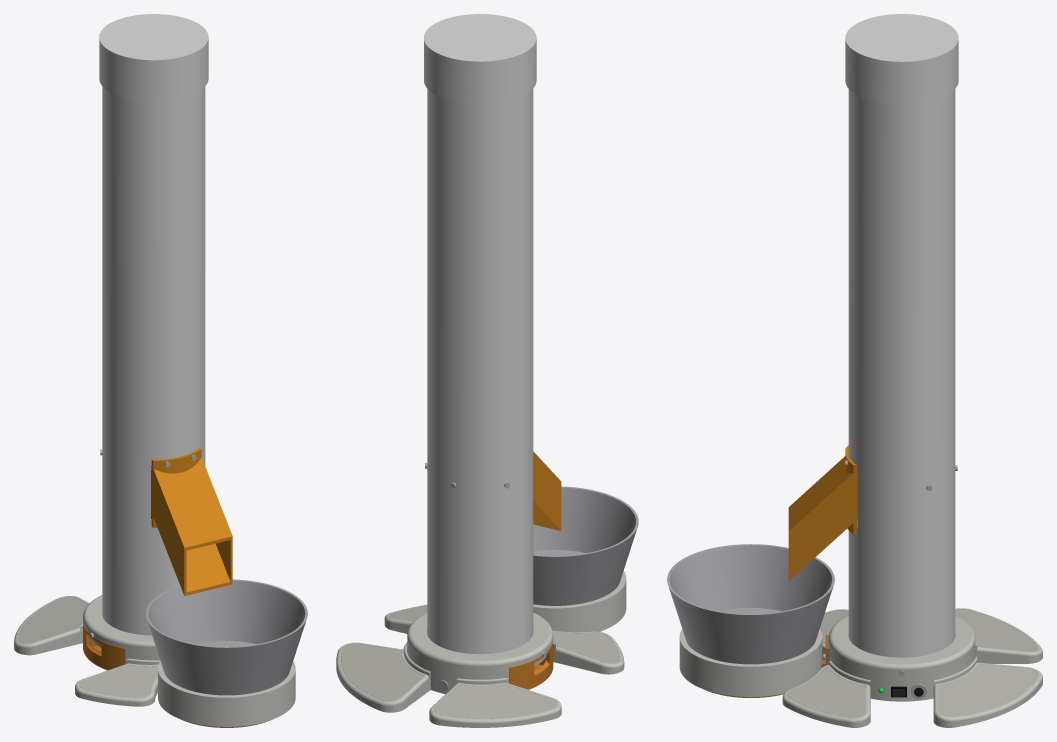
The model's file is montagem.min.glb.
3 renders of one model, left to right at view 1: azimuth 30°, elevation 25°; view 2: azimuth 150°, elevation 25°; view 3: azimuth 270°, elevation 25°, orthographic. The views are drawn at different scales.
Visible parts, largest first — view 1: Tubo_PVC_DN100, Vasilha_inox, Cap_superior, P04_bica, P08_plataforma, P06_pedestal, P13_tampa_TE, P13_tampa_FE, P12_pata_FE, P12_pata_TE, P11_gaveta_pilhas; view 2: Tubo_PVC_DN100, Vasilha_inox, Cap_superior, P06_pedestal, P13_tampa_TD, P13_tampa_TE, P08_plataforma, P12_pata_TE, P12_pata_TD, P04_bica, P13_tampa_FE, P12_pata_FE (+1 smaller); view 3: Tubo_PVC_DN100, Vasilha_inox, Cap_superior, P06_pedestal, P04_bica, P08_plataforma, P13_tampa_TD, P13_tampa_FD, P12_pata_TD, P13_tampa_TE, P12_pata_FD, P12_pata_TE.
Boxes of the visible parts, left/top/right/bottom form: Tubo_PVC_DN100: left=102, top=86, right=205, bottom=635; Vasilha_inox: left=146, top=579, right=307, bottom=695; Cap_superior: left=99, top=14, right=208, bottom=101; P04_bica: left=151, top=448, right=232, bottom=596; P08_plataforma: left=158, top=661, right=295, bottom=726; P06_pedestal: left=83, top=595, right=159, bottom=660; P13_tampa_TE: left=19, top=596, right=88, bottom=643; P13_tampa_FE: left=79, top=665, right=157, bottom=697; P12_pata_FE: left=75, top=658, right=160, bottom=706; P12_pata_TE: left=14, top=596, right=89, bottom=655; P11_gaveta_pilhas: left=83, top=623, right=125, bottom=670; Tubo_PVC_DN100: left=427, top=88, right=533, bottom=654; Vasilha_inox: left=533, top=486, right=638, bottom=605; Cap_superior: left=424, top=14, right=536, bottom=104; P06_pedestal: left=407, top=612, right=553, bottom=694; P13_tampa_TD: left=341, top=643, right=423, bottom=700; P13_tampa_TE: left=434, top=684, right=556, bottom=718; P08_plataforma: left=533, top=571, right=626, bottom=632; P12_pata_TE: left=429, top=678, right=561, bottom=727; P12_pata_TD: left=336, top=642, right=430, bottom=712; P04_bica: left=533, top=451, right=561, bottom=530; P13_tampa_FE: left=553, top=631, right=619, bottom=663; P12_pata_FE: left=552, top=630, right=624, bottom=674; Tubo_PVC_DN100: left=848, top=89, right=955, bottom=657; Vasilha_inox: left=667, top=544, right=834, bottom=664; Cap_superior: left=845, top=14, right=958, bottom=104; P06_pedestal: left=828, top=615, right=975, bottom=701; P04_bica: left=788, top=445, right=857, bottom=581; P08_plataforma: left=679, top=629, right=822, bottom=696; P13_tampa_TD: left=938, top=664, right=1037, bottom=716; P13_tampa_FD: left=787, top=666, right=865, bottom=717; P12_pata_TD: left=933, top=658, right=1042, bottom=727; P13_tampa_TE: left=955, top=609, right=1037, bottom=651; P12_pata_FD: left=782, top=661, right=870, bottom=727; P12_pata_TE: left=955, top=608, right=1042, bottom=663.
Bounding box in the file's own units: 252 × 666 × 358.
Materials: 4 (4 with a texture image).
